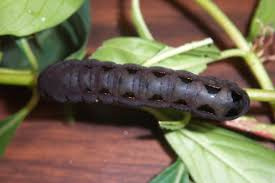Armyworm: (36, 53, 254, 134)
